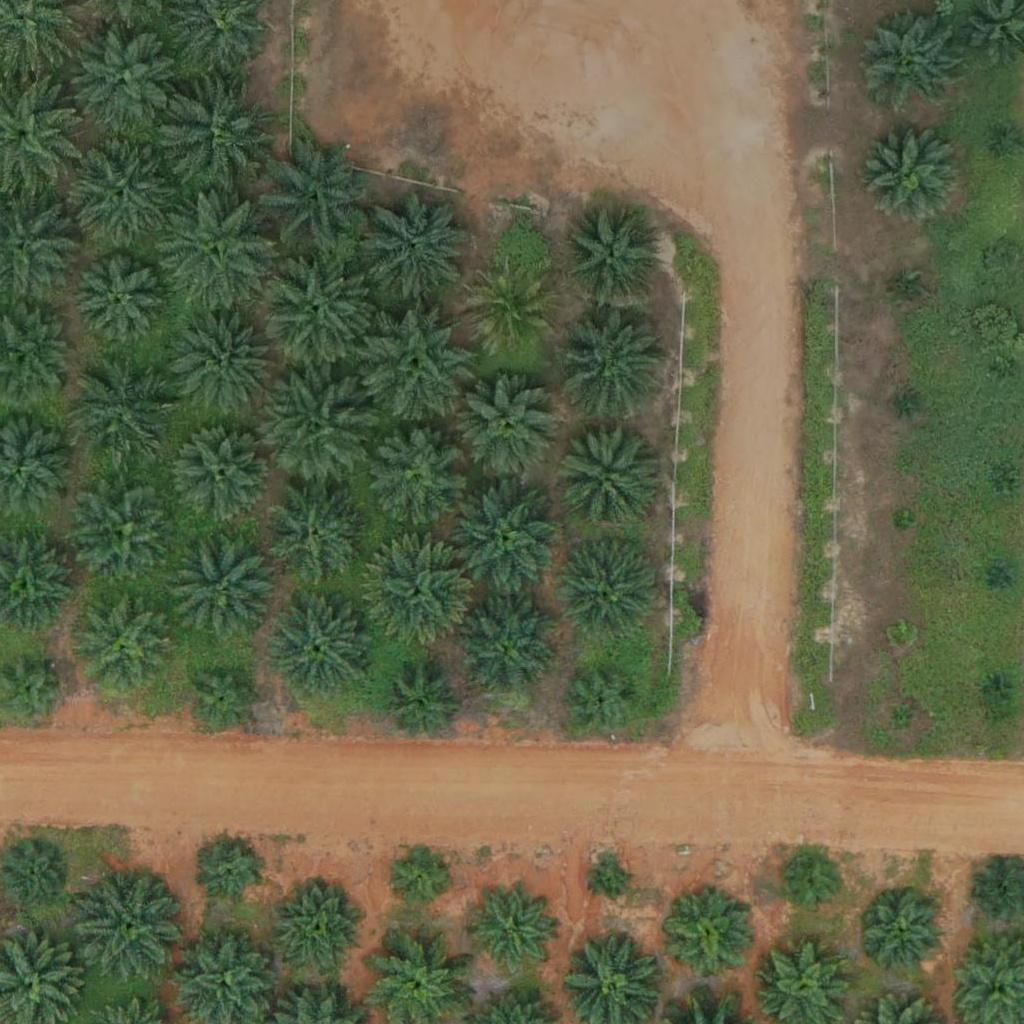Kelapa_Sawit: (363, 191, 476, 305), (361, 307, 474, 421), (261, 142, 374, 256), (450, 480, 563, 593), (261, 248, 373, 362), (164, 81, 276, 195), (363, 541, 475, 654), (558, 306, 670, 419), (258, 373, 370, 486), (161, 195, 273, 308), (65, 140, 177, 253), (67, 25, 179, 138), (860, 11, 960, 112), (858, 119, 958, 220), (560, 206, 660, 307), (457, 598, 557, 699), (266, 489, 366, 590), (270, 596, 370, 697), (172, 312, 272, 413), (173, 425, 273, 526), (173, 534, 273, 635), (72, 357, 172, 458), (74, 483, 174, 584), (74, 595, 174, 696), (83, 874, 183, 975), (555, 426, 655, 526), (560, 540, 660, 640), (461, 379, 561, 479), (367, 429, 467, 529), (466, 269, 554, 357), (468, 887, 556, 975), (860, 891, 948, 979), (74, 259, 161, 347), (280, 884, 367, 972), (667, 896, 754, 984), (566, 662, 641, 738), (384, 668, 459, 743), (188, 662, 263, 737), (1, 843, 64, 906), (201, 841, 263, 904), (387, 842, 449, 905), (782, 854, 844, 917), (594, 862, 631, 900), (995, 359, 1020, 384), (989, 475, 1014, 500), (895, 279, 920, 304), (895, 392, 920, 417), (891, 510, 916, 535), (887, 622, 912, 647), (890, 706, 915, 731), (990, 564, 1015, 589), (983, 674, 1008, 699)
